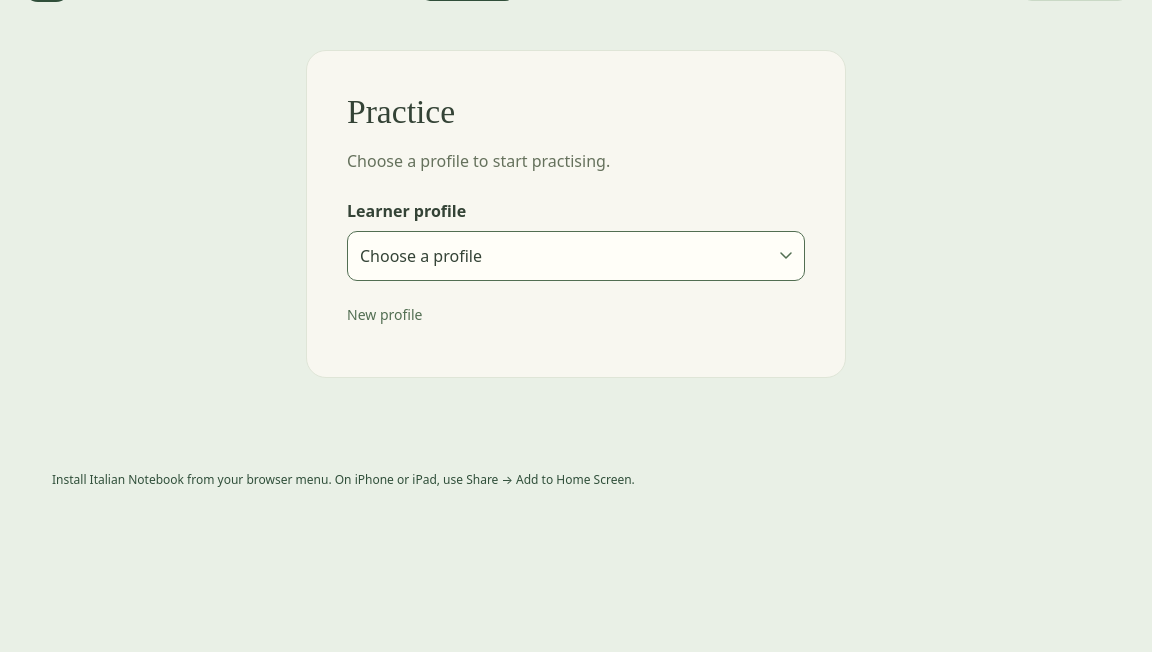
Test: keyboard reveal conceals hints and a failed save retries before advancing to summary
Select "Foteini" in the dropdown labelled "Learner profile" at (576, 256), box [347,231,805,281]
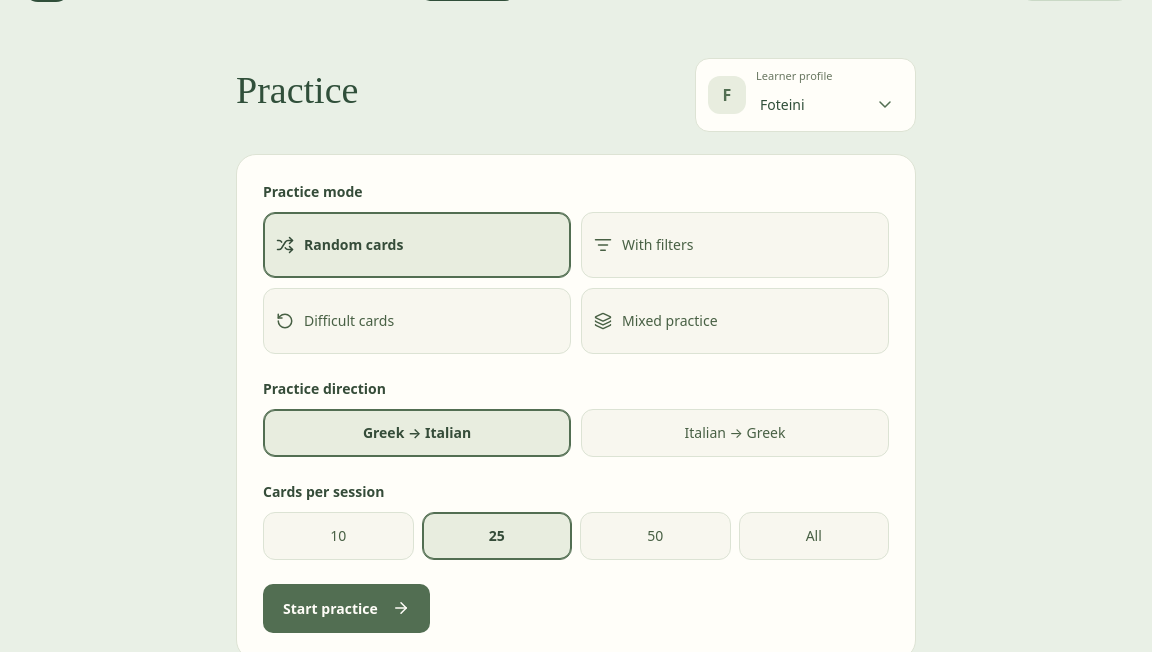
Click the button "Start practice".
click(346, 608)  # box [263,584,430,632]
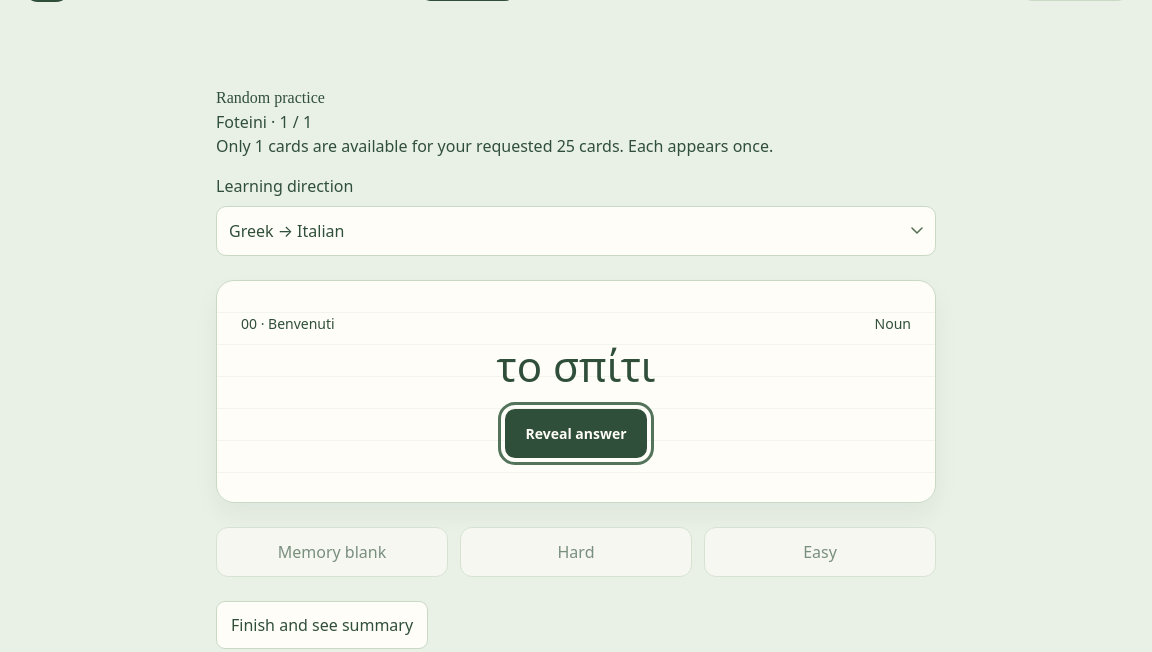
Check: the text "Only 1 cards are available for your requested 25 cards. Each appears once." is shown, box [216,135,773,157]
Check: the text "00 · Benvenuti" is shown, box [241,313,335,334]
Check: the text "Noun" is shown, box [875,313,911,334]
Press Enter
(page scrolled)
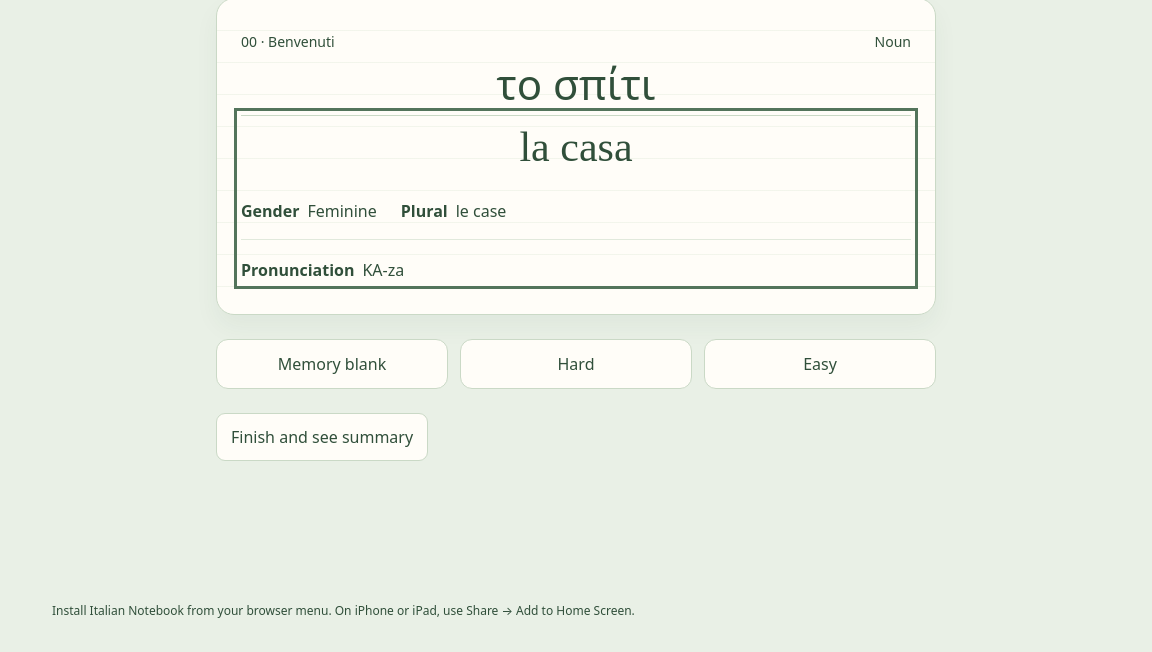
Check: the heading "la casa" is shown, box [520,124,633,170]
Check: the text "KA-za" is shown, box [362,258,404,282]
Click the button "Hard".
click(576, 364)  # box [460,339,692,389]
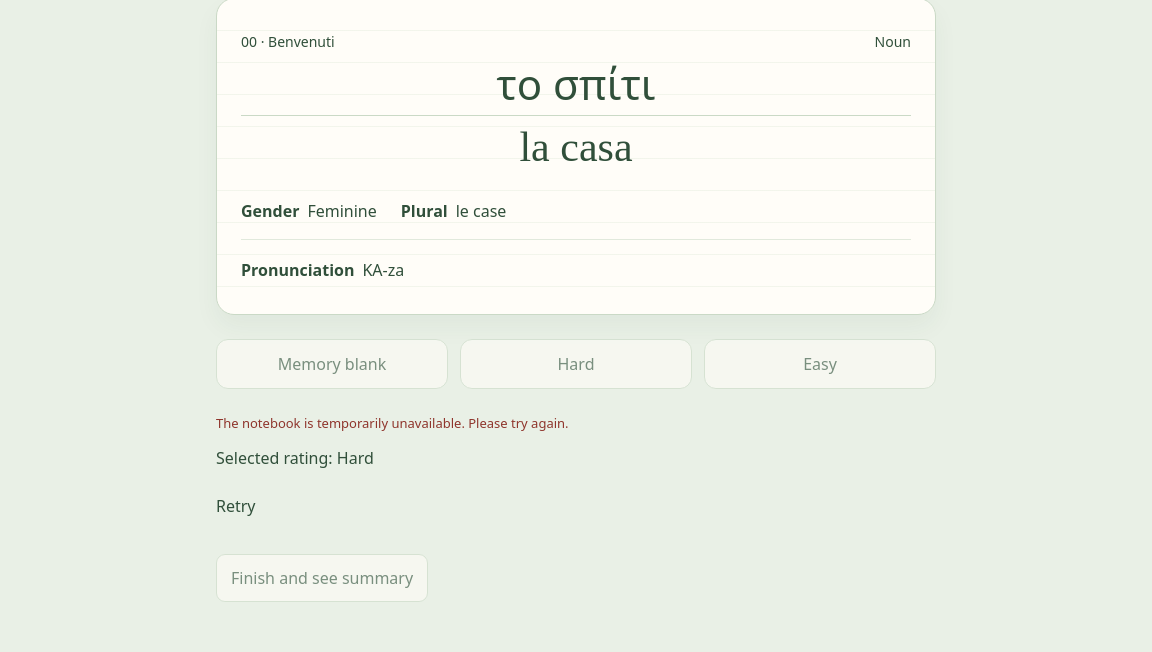
Check: the heading "la casa" is shown, box [520,124,633,170]
Check: the message "The notebook is temporarily unavailable. Please try again." is shown, box [216,414,569,432]
Check: the text "Selected rating: Hard" is shown, box [216,447,374,469]
Click the button "Retry".
click(236, 506)  # box [216,482,256,530]
(page scrolled)
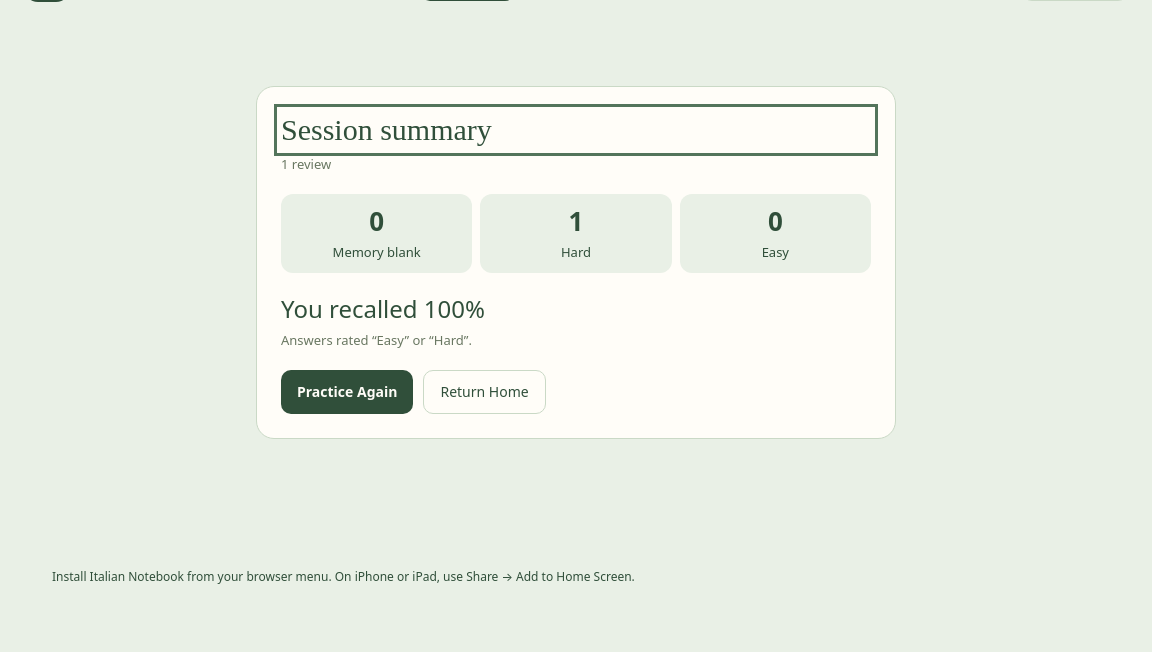
Check: the heading "Session summary" is shown, box [281,113,492,146]
Check: the text "You recalled 100%" is shown, box [281,292,485,325]
Click the button "Practice Again".
click(347, 392)  # box [281,370,413,414]
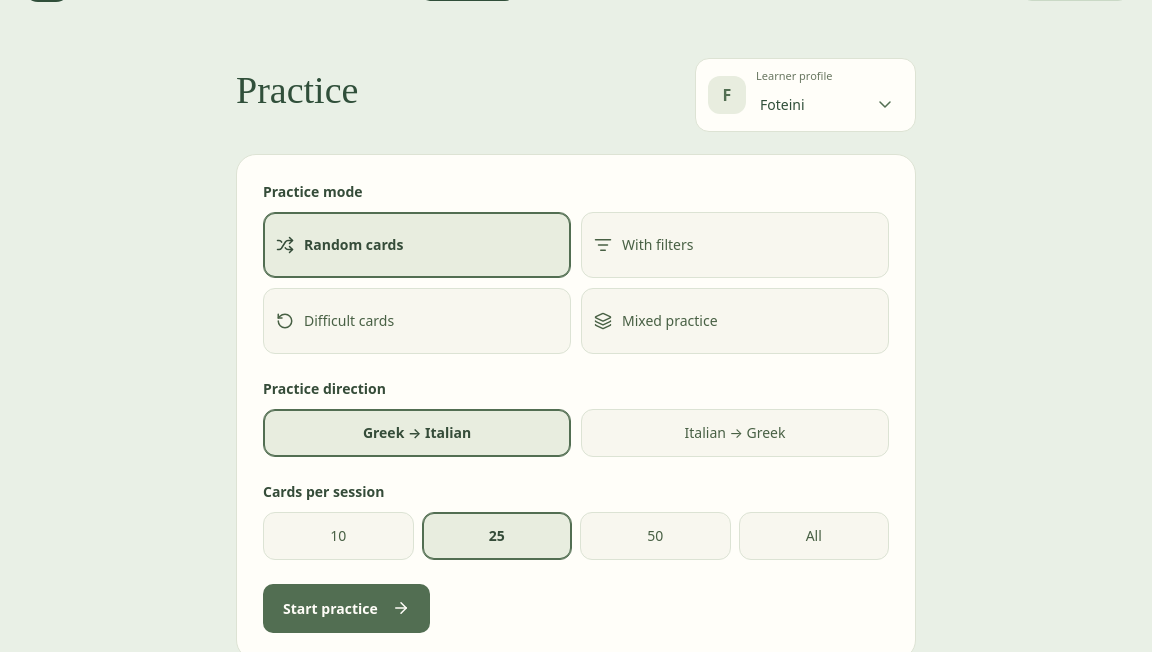
Check: the button "Start practice" is shown, box [263,584,430,632]
